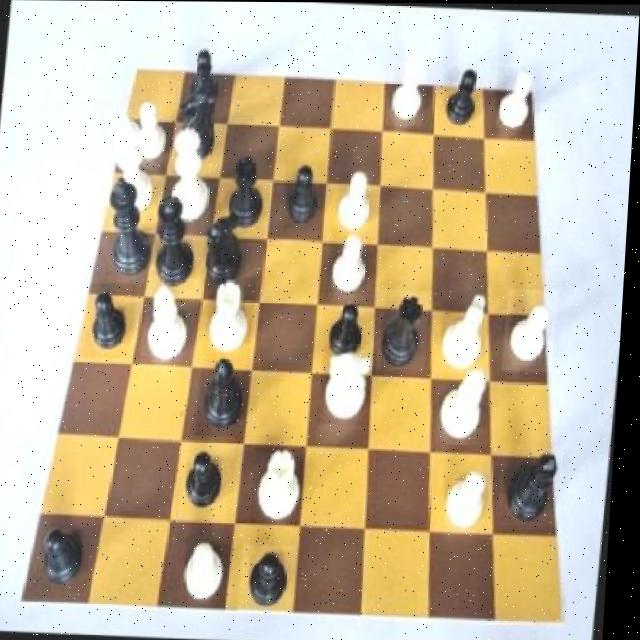bishop: (503, 444, 571, 527), (199, 346, 256, 440)
black-bishop: (102, 165, 164, 281)
black-king: (171, 78, 225, 167), (203, 203, 252, 290)
black-knight: (185, 435, 240, 519), (40, 517, 97, 592), (88, 284, 141, 361), (246, 543, 303, 613), (327, 291, 377, 361), (283, 159, 330, 230), (439, 60, 486, 129), (182, 41, 229, 109)
black-pawn: (148, 188, 206, 292)
black-queen: (378, 288, 435, 372), (222, 148, 273, 230)
black-rook: (144, 276, 206, 370), (438, 364, 498, 444)
white-bishop: (104, 105, 166, 219)
white-king: (438, 283, 503, 374), (322, 343, 383, 425)
white-knight: (506, 288, 562, 372), (438, 466, 500, 537), (331, 160, 383, 237), (181, 535, 238, 603), (126, 93, 176, 164), (493, 64, 543, 134), (329, 228, 375, 298), (385, 60, 429, 127)
white-pawn: (163, 120, 222, 227)
white-queen: (256, 435, 314, 526), (206, 275, 260, 360)
